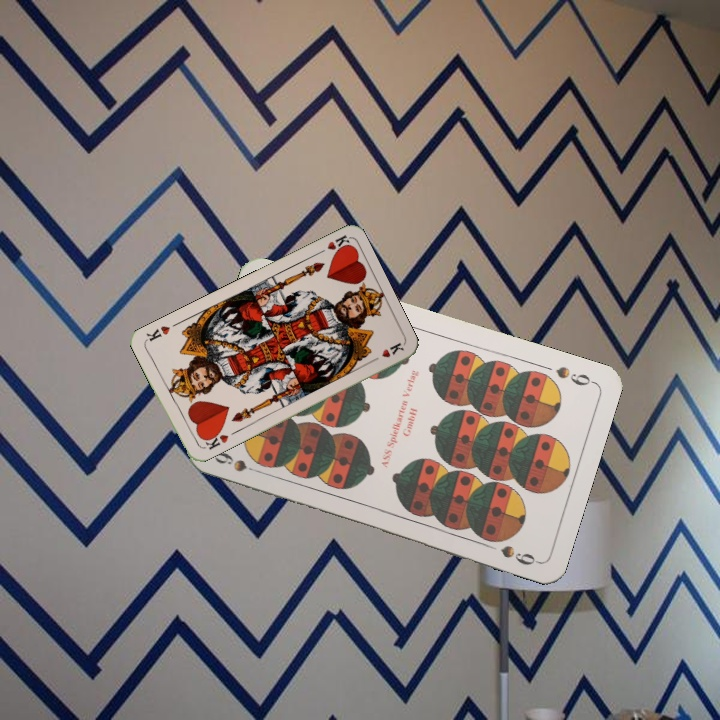HK: (312, 231, 353, 258), (197, 426, 231, 452)
S9: (210, 448, 265, 477), (551, 362, 597, 389)
